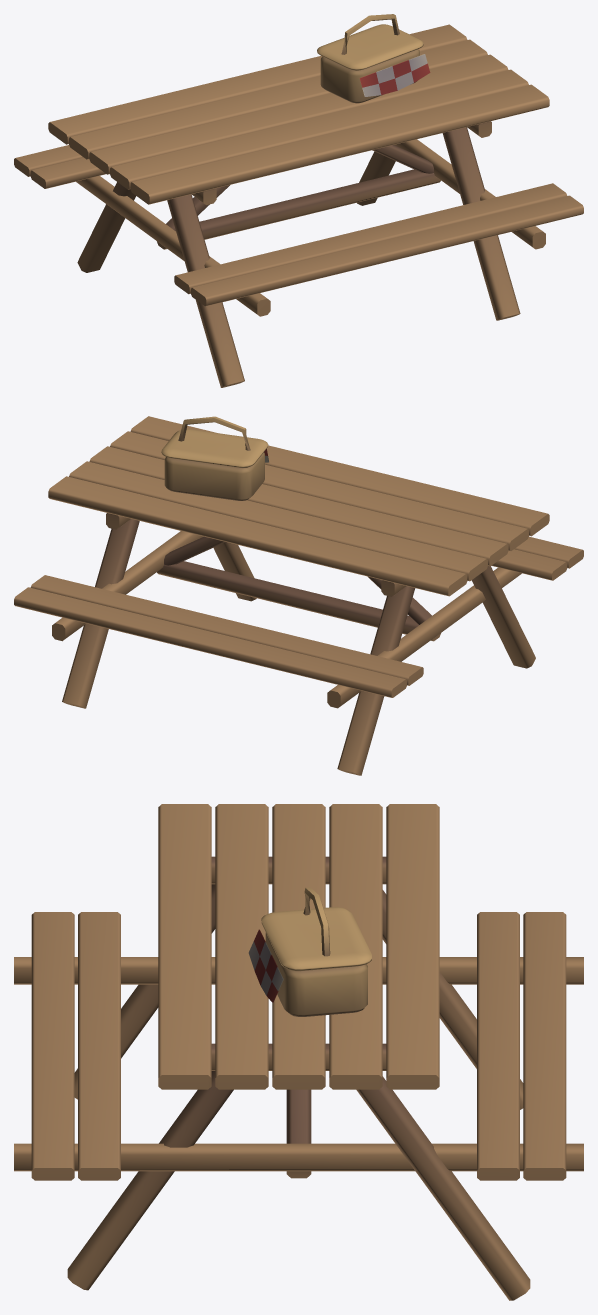
The model's file is PicnicTable.fbx.
3 views of the same model, one above another, from view 1: azimuth 30°, elevation 25°; view 2: azimuth 150°, elevation 25°; view 3: azimuth 270°, elevation 25° (orthographic). The views are drawn at different scales.
Parts seen in each view (by area): view 1: PicnicTable; view 2: PicnicTable; view 3: PicnicTable.
Boxes of the visible parts, left/top/right/bottom form: PicnicTable: left=14, top=14, right=583, bottom=387; PicnicTable: left=14, top=416, right=583, bottom=775; PicnicTable: left=14, top=804, right=583, bottom=1300.
Size of the model in its own units: 1.8 by 1.1 by 1.6.
